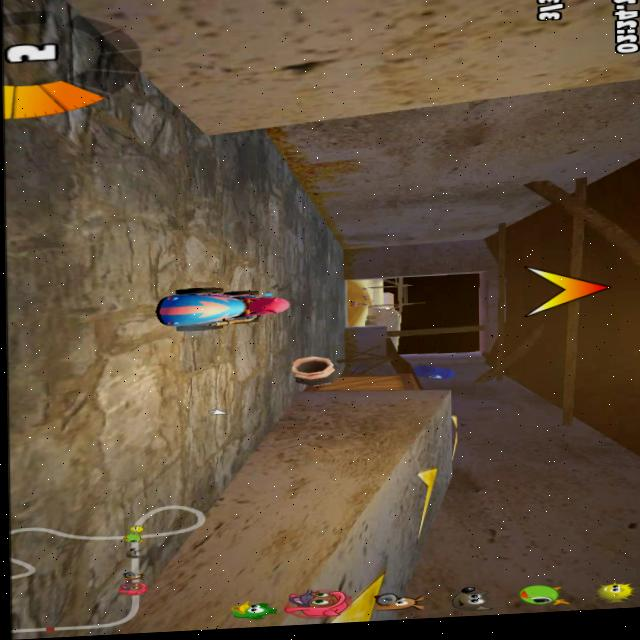bonus: (411, 364, 456, 382)
enemy_kart: (133, 276, 298, 335), (347, 299, 361, 309)
power_up: (387, 451, 446, 534)
